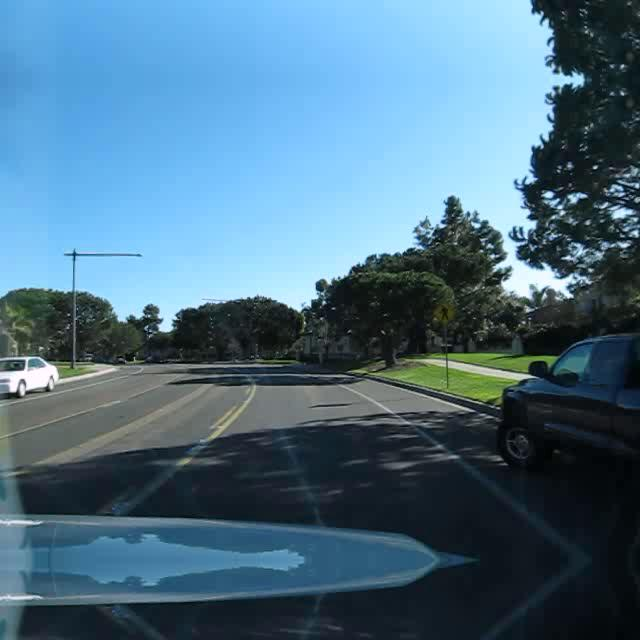pedestrianCrossing: (431, 300, 457, 326)
